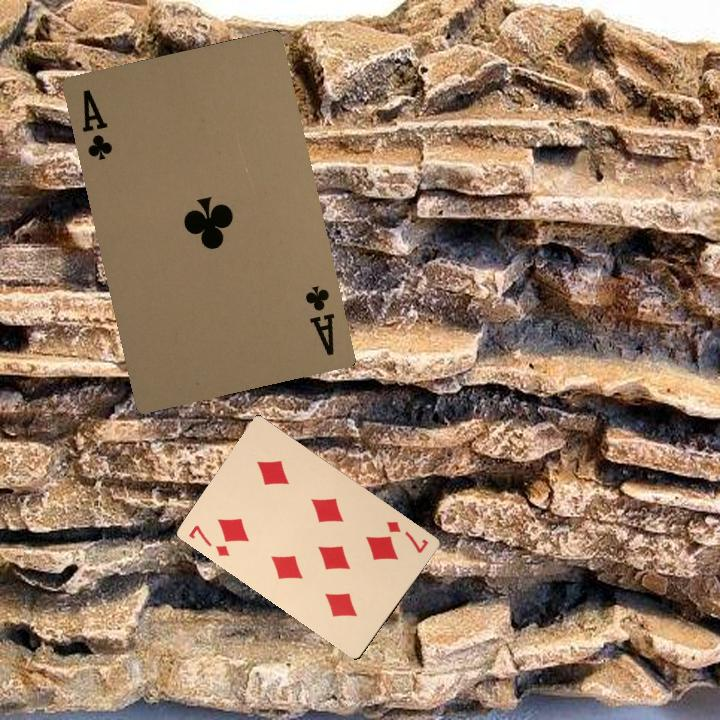7d: (382, 517, 431, 556), (185, 521, 232, 559)
Ac: (77, 85, 115, 163), (301, 282, 337, 359)
